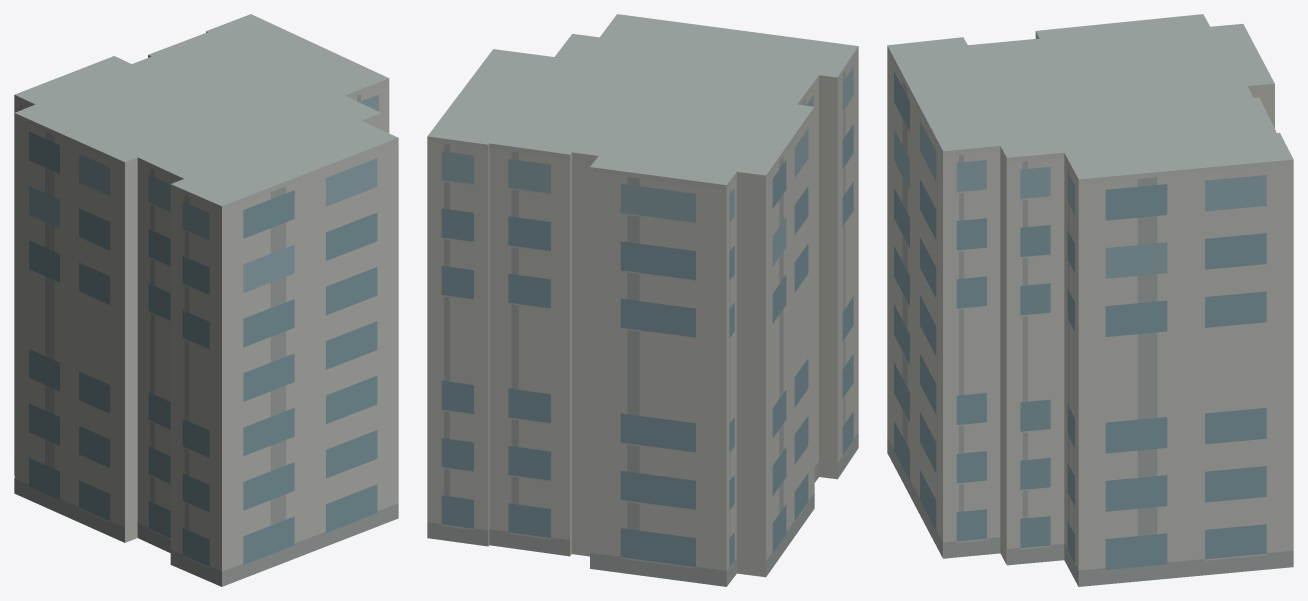
Rendered from survey-upis-32997594.glb.
The picture shows the model from 3 angles, left to right: view 1: azimuth 30°, elevation 25°; view 2: azimuth 150°, elevation 25°; view 3: azimuth 270°, elevation 25°; orthographic projection. The views are drawn at different scales.
Visible parts, largest first — view 1: survey-upis-32997594.tmp; view 2: survey-upis-32997594.tmp; view 3: survey-upis-32997594.tmp.
Boxes of the visible parts, box(x1,y1,x2,y2) form: survey-upis-32997594.tmp: box(14, 14, 398, 586); survey-upis-32997594.tmp: box(427, 14, 858, 586); survey-upis-32997594.tmp: box(887, 14, 1293, 586).
Bounding box in the file's own units: 16.81 × 19.3 × 17.45.
